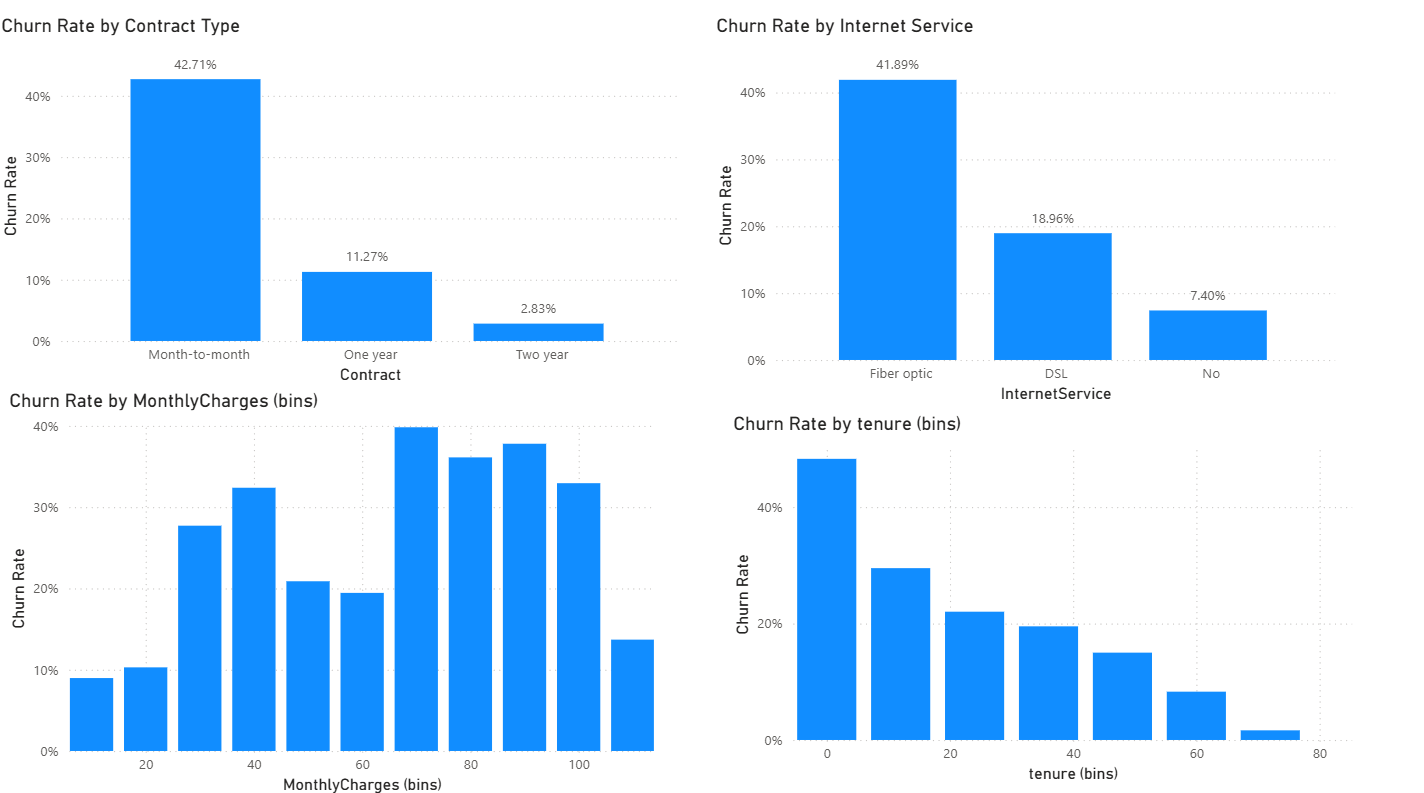

This screenshot's page, from the dashboard's own definition file:
{"tool":"powerbi","page":{"name":"Page 1","canvas":[1280,720],"ordinal":0},"visuals":[{"type":"clusteredColumnChart","title":"Churn Rate by Contract Type","fields":{"Category":["WA_Fn-UseC_-Telco-Customer-Churn.Contract"],"Y":["WA_Fn-UseC_-Telco-Customer-Churn.Churn Rate"]},"box":[0,17,617,335.8],"z":0},{"type":"clusteredColumnChart","fields":{"Category":["WA_Fn-UseC_-Telco-Customer-Churn.MonthlyCharges (bins)"],"Y":["WA_Fn-UseC_-Telco-Customer-Churn.Churn Rate"]},"box":[7.2,352.8,587.5,367.2],"z":1},{"type":"clusteredColumnChart","title":"Churn Rate by Internet Service","fields":{"Category":["WA_Fn-UseC_-Telco-Customer-Churn.InternetService"],"Y":["WA_Fn-UseC_-Telco-Customer-Churn.Churn Rate"]},"box":[640.3,17,564.2,352.8],"z":2},{"type":"clusteredColumnChart","fields":{"Category":["WA_Fn-UseC_-Telco-Customer-Churn.tenure (bins)"],"Y":["WA_Fn-UseC_-Telco-Customer-Churn.Churn Rate"]},"box":[655.5,373.4,564.2,336.7],"z":3}]}

Visuals, with their boxes in screenshot pixels (x1, y1, x2, y2), scaled from the page's 1280x720 canvas onto the 1424x793 screenshot:
"Churn Rate by Contract Type" clusteredColumnChart: crop(0, 19, 686, 389)
clusteredColumnChart - WA_Fn-UseC_-Telco-Customer-Churn.MonthlyCharges (bins) x WA_Fn-UseC_-Telco-Customer-Churn.Churn Rate: crop(8, 389, 662, 792)
"Churn Rate by Internet Service" clusteredColumnChart: crop(712, 19, 1340, 407)
clusteredColumnChart - WA_Fn-UseC_-Telco-Customer-Churn.tenure (bins) x WA_Fn-UseC_-Telco-Customer-Churn.Churn Rate: crop(729, 411, 1357, 782)
